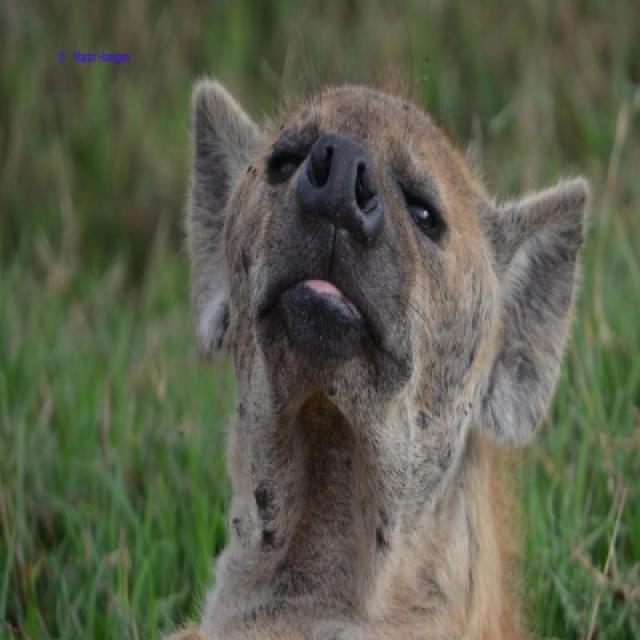hyena: (168, 80, 590, 638)
